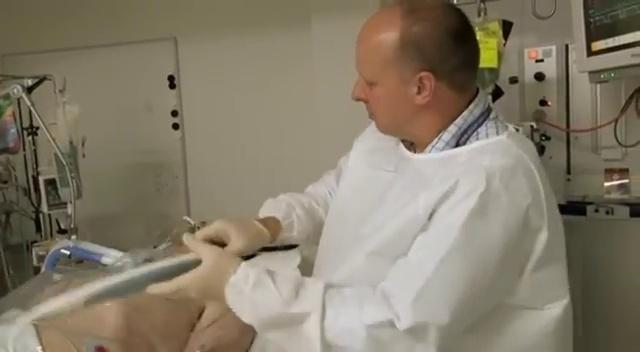doctor: (170, 1, 576, 350)
patient: (0, 213, 269, 352)
